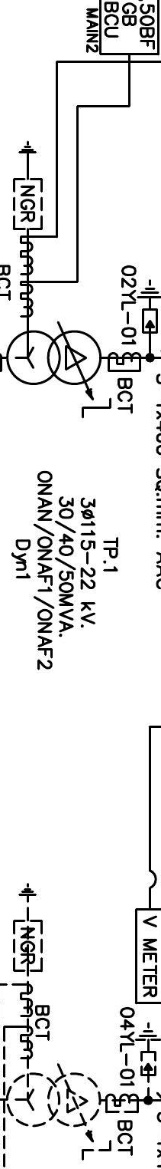11522_tx_dyn1: (6, 330, 102, 386)
NGR_future: (12, 140, 43, 231)
